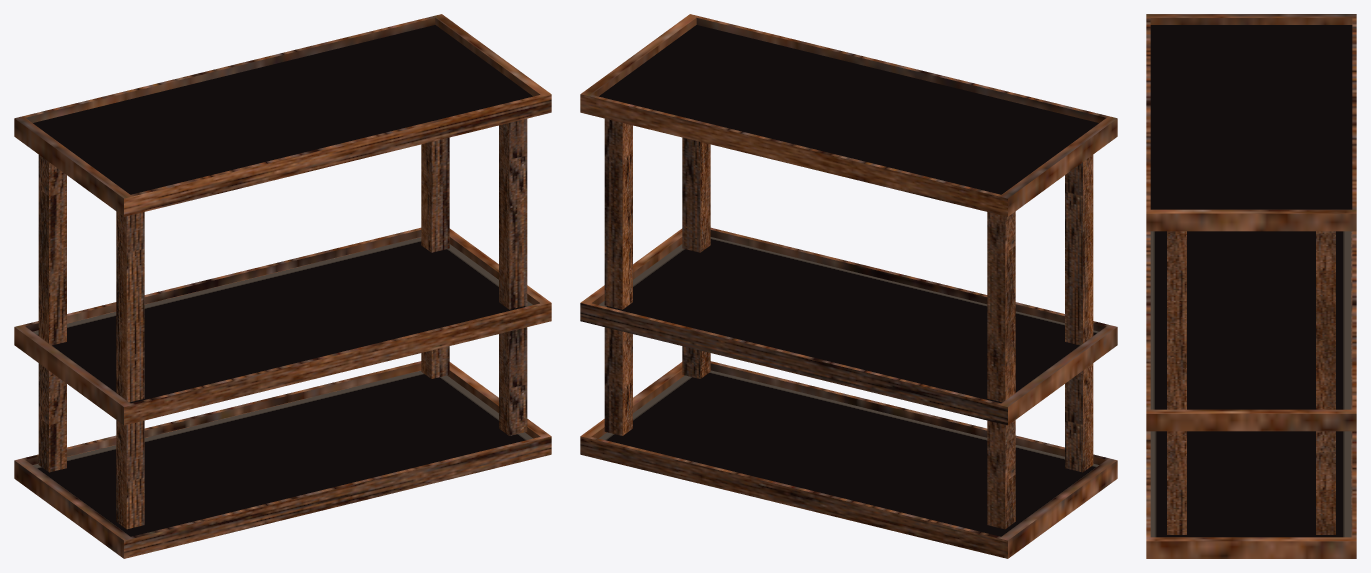
Rendered from Garden_Shelf.fbx.
The picture shows the model from 3 angles, left to right: view 1: azimuth 30°, elevation 25°; view 2: azimuth 150°, elevation 25°; view 3: azimuth 270°, elevation 25°; orthographic projection. The views are drawn at different scales.
Parts seen in each view (by area): view 1: wood_Shelf, legs; view 2: wood_Shelf, legs; view 3: wood_Shelf, legs.
Boxes of the visible parts, x1,y1,x2,y2 form: wood_Shelf: (14,14,551,558); legs: (38,118,527,529); wood_Shelf: (580,14,1117,558); legs: (604,118,1093,529); wood_Shelf: (1146,14,1356,558); legs: (1167,231,1335,534).
Bounding box in the file's own units: 581 × 468 × 258.
